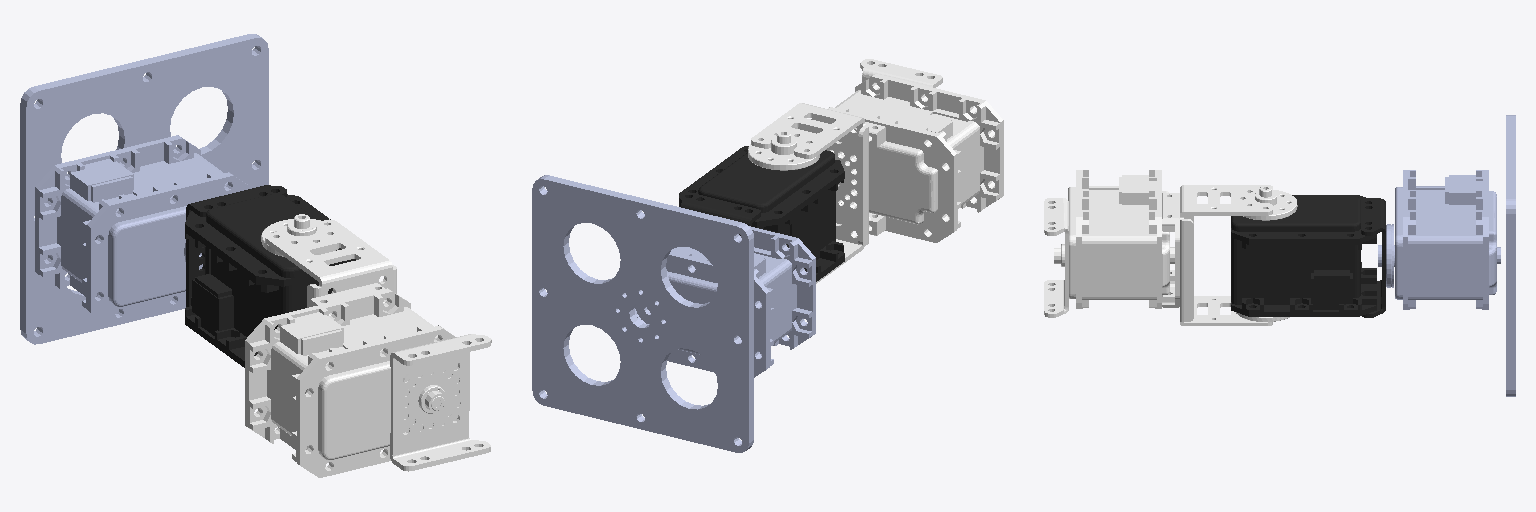
URDF robot description (arm):
<robot
  name="arm">
  <link
    name="base_link">
    <inertial>
      <origin
        xyz="-0.0069692 0.0024965 0.021728"
        rpy="0 0 0" />
      <mass
        value="0.058383" />
      <inertia
        ixx="2.0959E-05"
        ixy="-3.4143E-13"
        ixz="-2.3486E-06"
        iyy="2.7152E-05"
        iyz="6.1954E-12"
        izz="2.6581E-05" />
    </inertial>
    <visual>
      <origin
        xyz="0 0 0"
        rpy="0 0 0" />
      <geometry>
        <mesh
          filename="package://arm_controller/meshes/base_link.STL" />
      </geometry>
      <material
        name="">
        <color
          rgba="0.79216 0.81961 0.93333 1" />
      </material>
    </visual>
    <collision>
      <origin
        xyz="0 0 0"
        rpy="0 0 0" />
      <geometry>
        <mesh
          filename="package://arm_controller/meshes/base_link.STL" />
      </geometry>
    </collision>
  </link>
  <link
    name="yaw_link">
    <inertial>
      <origin
        xyz="-1.5247E-05 0.029378 -3.0754E-05"
        rpy="0 0 0" />
      <mass
        value="0.044717" />
      <inertia
        ixx="1.3528E-05"
        ixy="1.622E-08"
        ixz="-2.5182E-11"
        iyy="7.7818E-06"
        iyz="1.8148E-07"
        izz="1.1528E-05" />
    </inertial>
    <visual>
      <origin
        xyz="0 0 0"
        rpy="0 0 0" />
      <geometry>
        <mesh
          filename="package://arm_controller/meshes/yaw_link.STL" />
      </geometry>
      <material
        name="">
        <color
          rgba="0.20784 0.20784 0.20784 1" />
      </material>
    </visual>
    <collision>
      <origin
        xyz="0 0 0"
        rpy="0 0 0" />
      <geometry>
        <mesh
          filename="package://arm_controller/meshes/yaw_link.STL" />
      </geometry>
    </collision>
  </link>
  <joint
    name="yaw_joint"
    type="revolute">
    <origin
      xyz="0.0015632 -0.047581 0.0024965"
      rpy="2.347E-16 1.301E-16 -3.1416" />
    <parent
      link="base_link" />
    <child
      link="yaw_link" />
    <axis
      xyz="0 -1 0" />
    <limit
      lower="-1.57"
      upper="1.57"
      effort="10"
      velocity="2" />
  </joint>
  <link
    name="pitch_link">
    <inertial>
      <origin
        xyz="0.057679 0.00039312 0.0099973"
        rpy="0 0 0" />
      <mass
        value="0.050127" />
      <inertia
        ixx="1.3377E-05"
        ixy="-6.8563E-07"
        ixz="1.9119E-06"
        iyy="2.1057E-05"
        iyz="-1.4684E-07"
        izz="1.725E-05" />
    </inertial>
    <visual>
      <origin
        xyz="0 0 0"
        rpy="0 0 0" />
      <geometry>
        <mesh
          filename="package://arm_controller/meshes/pitch_link.STL" />
      </geometry>
      <material
        name="">
        <color
          rgba="1 1 1 1" />
      </material>
    </visual>
    <collision>
      <origin
        xyz="0 0 0"
        rpy="0 0 0" />
      <geometry>
        <mesh
          filename="package://arm_controller/meshes/pitch_link.STL" />
      </geometry>
    </collision>
  </link>
  <joint
    name="pitch_joint"
    type="revolute">
    <origin
      xyz="0 0.030809 0"
      rpy="1.5708 1.7347E-16 1.5708" />
    <parent
      link="yaw_link" />
    <child
      link="pitch_link" />
    <axis
      xyz="0 1 0" />
    <limit
      lower="-1.57"
      upper="1.57"
      effort="10"
      velocity="2" />
  </joint>
  <link
    name="roll_link">
    <inertial>
      <origin
        xyz="-0.00024897 0.0063463 0.0001"
        rpy="0 0 0" />
      <mass
        value="0.0027304" />
      <inertia
        ixx="2.582E-07"
        ixy="-2.9795E-09"
        ixz="-4.4686E-14"
        iyy="3.4198E-07"
        iyz="-2.1096E-13"
        izz="1.2028E-07" />
    </inertial>
    <visual>
      <origin
        xyz="0 0 0"
        rpy="0 0 0" />
      <geometry>
        <mesh
          filename="package://arm_controller/meshes/roll_link.STL" />
      </geometry>
      <material
        name="">
        <color
          rgba="1 1 1 1" />
      </material>
    </visual>
    <collision>
      <origin
        xyz="0 0 0"
        rpy="0 0 0" />
      <geometry>
        <mesh
          filename="package://arm_controller/meshes/roll_link.STL" />
      </geometry>
    </collision>
  </link>
  <joint
    name="roll_joint"
    type="revolute">
    <origin
      xyz="0.07745 0 0"
      rpy="3.1416 -1.5645 1.5708" />
    <parent
      link="pitch_link" />
    <child
      link="roll_link" />
    <axis
      xyz="0 -1 0" />
    <limit
      lower="-1.57"
      upper="1.57"
      effort="10"
      velocity="2" />
  </joint>
</robot>

--- What the picture shows (computed from the rendered views, not written in the file) ---
Views: 3 orthographic renders of the robot side by side, from view 1: azimuth 30°, elevation 25°; view 2: azimuth 150°, elevation 25°; view 3: azimuth 270°, elevation 25°.
Robot: arm — 4 links, 3 joints (3 revolute); root link base_link; default pose: all joints at 0.
Visible links, largest first — view 1: base_link, pitch_link, yaw_link, roll_link; view 2: base_link, pitch_link, yaw_link, roll_link; view 3: pitch_link, yaw_link, base_link, roll_link.
Boxes of the visible links, box(x1,y1,x2,y2) form: base_link: box(20, 34, 268, 344); pitch_link: box(245, 214, 459, 477); yaw_link: box(185, 185, 355, 367); roll_link: box(390, 334, 491, 471); base_link: box(532, 175, 815, 452); pitch_link: box(748, 74, 1003, 283); yaw_link: box(679, 146, 844, 281); roll_link: box(860, 59, 942, 97); pitch_link: box(1054, 170, 1297, 325); yaw_link: box(1231, 195, 1385, 317); base_link: box(1378, 115, 1515, 396); roll_link: box(1044, 198, 1068, 317).
Bounding box of the posed robot: 0.0764 × 0.1638 × 0.0756 m (x, y, z).
4 mesh visuals loaded from 4 distinct referenced files (4 binary STL).